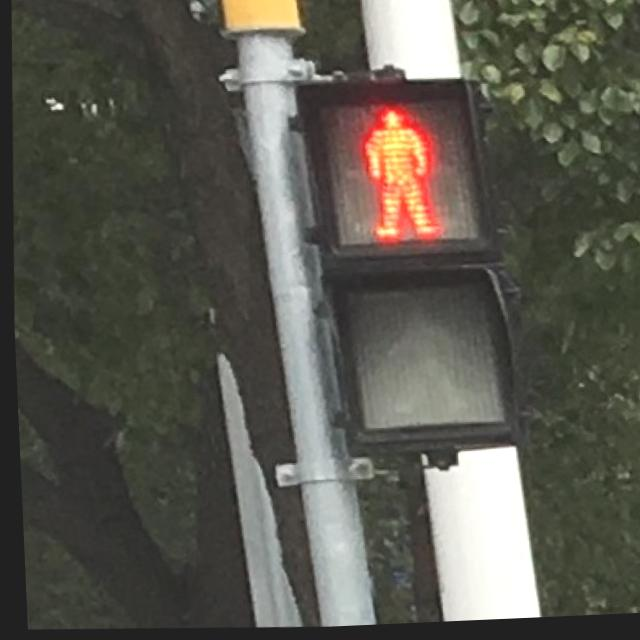red_light: (309, 93, 486, 261)
